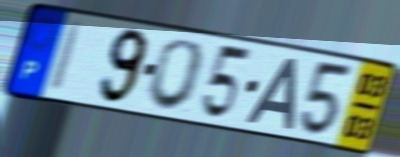5: (295, 58, 361, 139), (200, 41, 253, 122)
9: (97, 26, 152, 106)
A: (243, 55, 301, 132)
I: (46, 18, 88, 96)
O: (144, 37, 209, 113)
